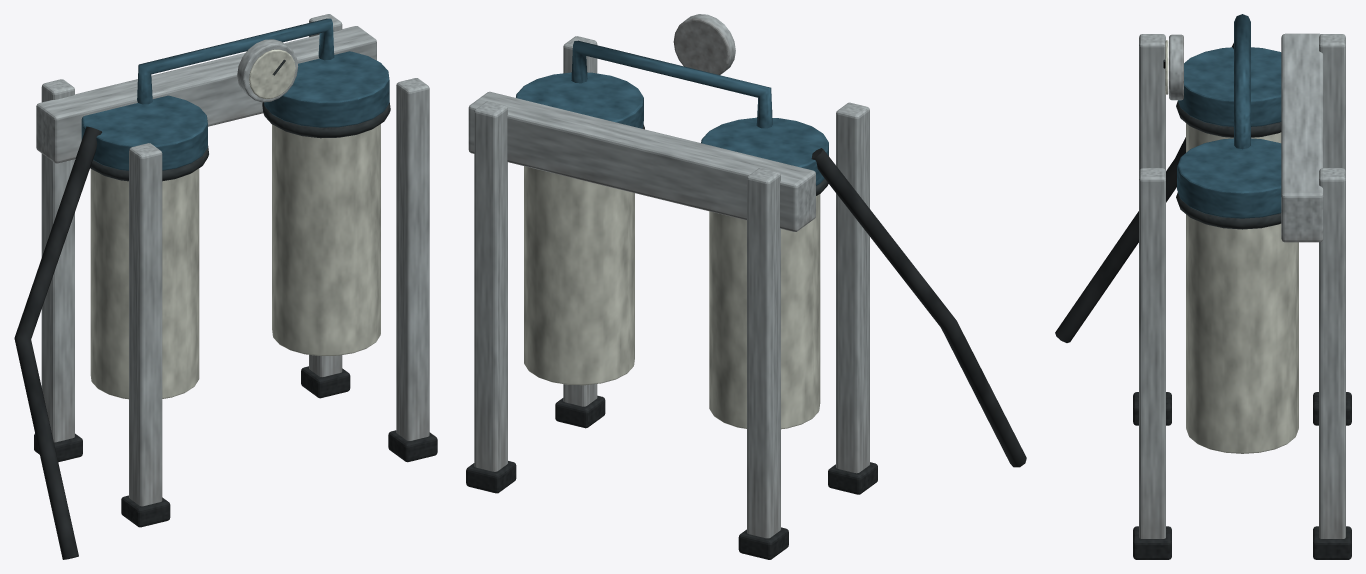
Rendered from GR_WaterFilter_02.glb.
3 renders of one model, left to right at view 1: azimuth 30°, elevation 25°; view 2: azimuth 150°, elevation 25°; view 3: azimuth 270°, elevation 25°, orthographic. The views are drawn at different scales.
Parts seen in each view (by area): view 1: Static; view 2: Static; view 3: Static.
Part boxes in pixels (bbox=[...]): Static: bbox=[14, 14, 437, 559]; Static: bbox=[466, 14, 1026, 559]; Static: bbox=[1055, 14, 1351, 559].
Bounding box in the file's own units: 0.8348 × 0.825 × 0.4951.
1 material, 1 textured.
